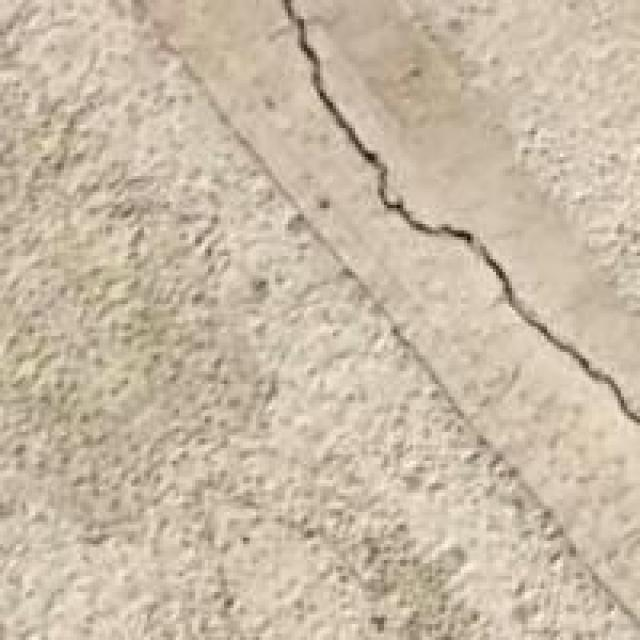crack: (237, 0, 637, 458)
